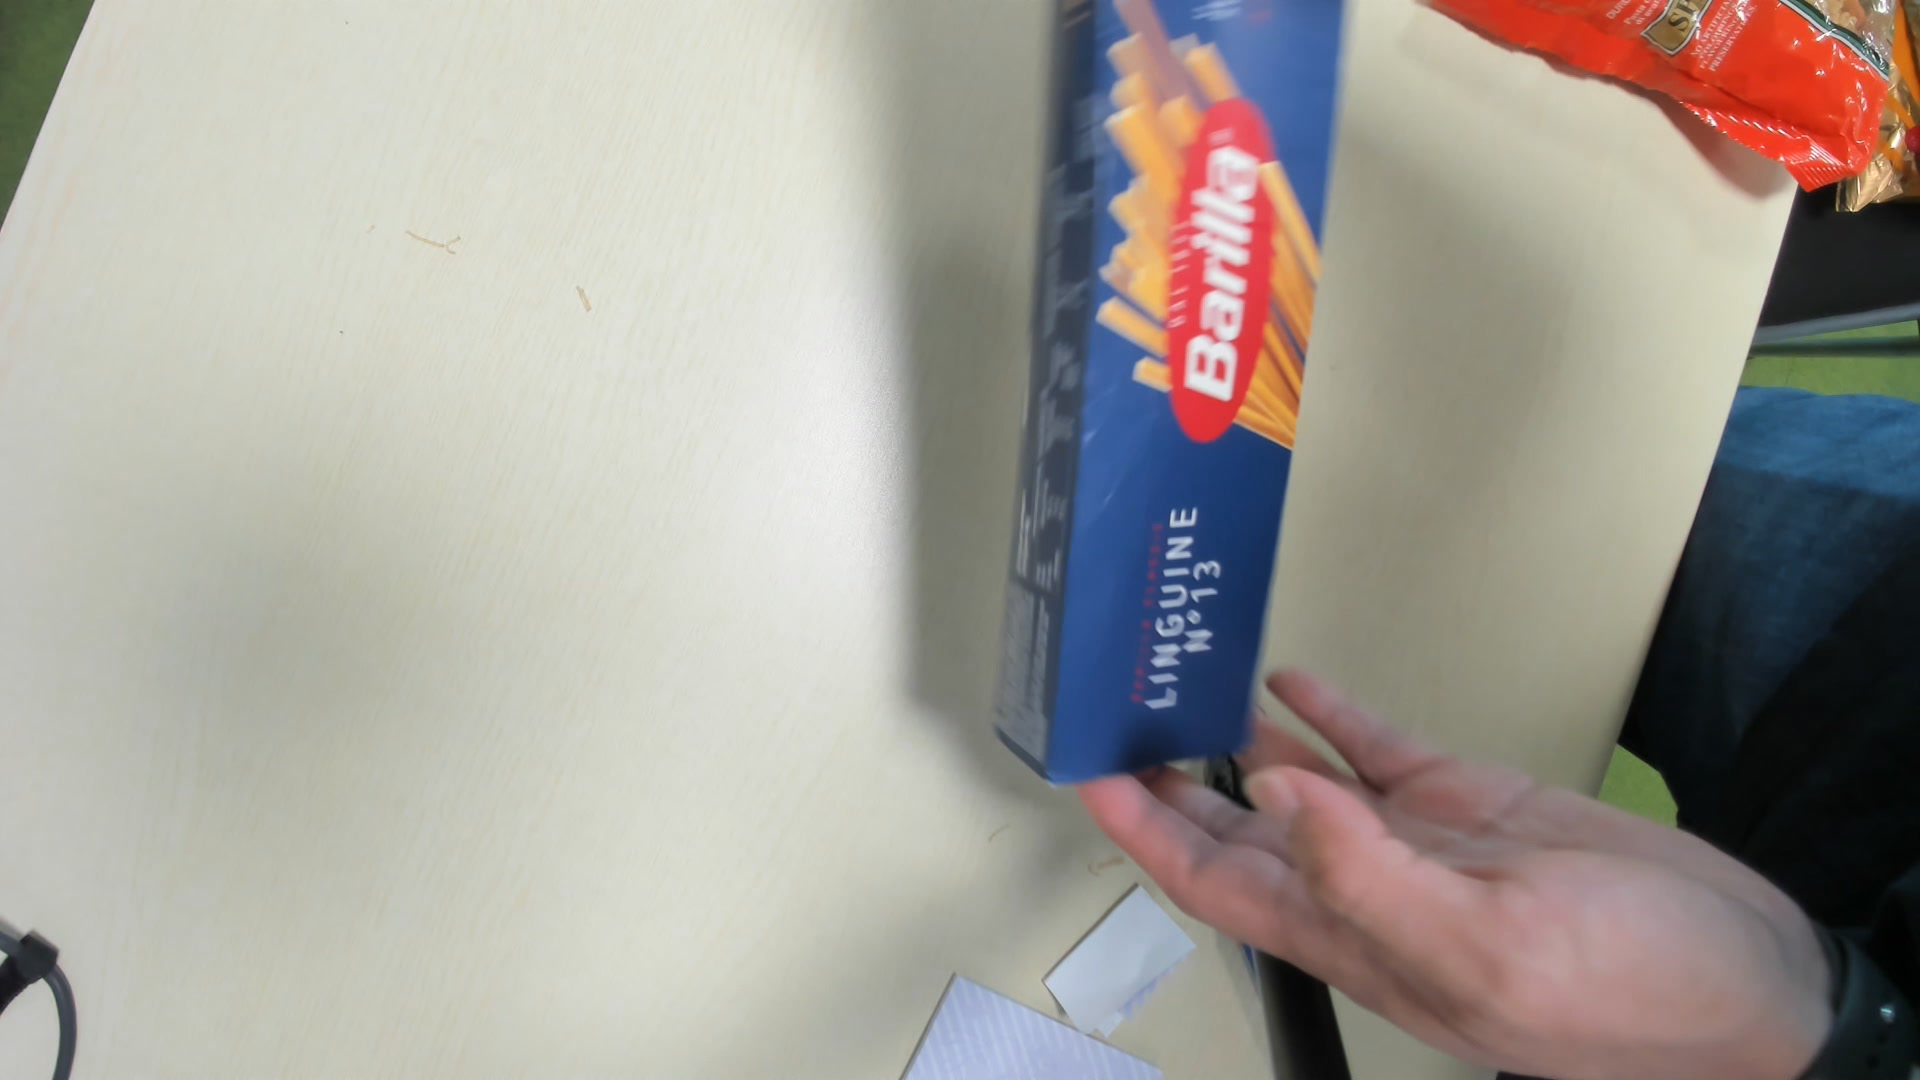Pasta_500-599g_NonHalal_NonHealthy: (986, 1, 1337, 787)
